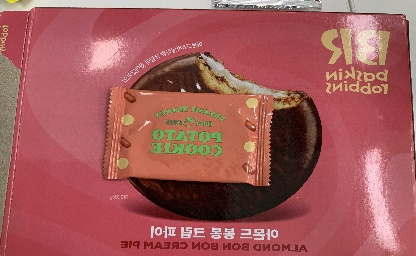pota: (98, 84, 278, 189)
